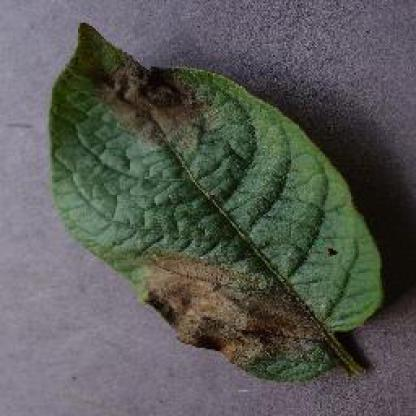bad leaf: (40, 26, 383, 396)
